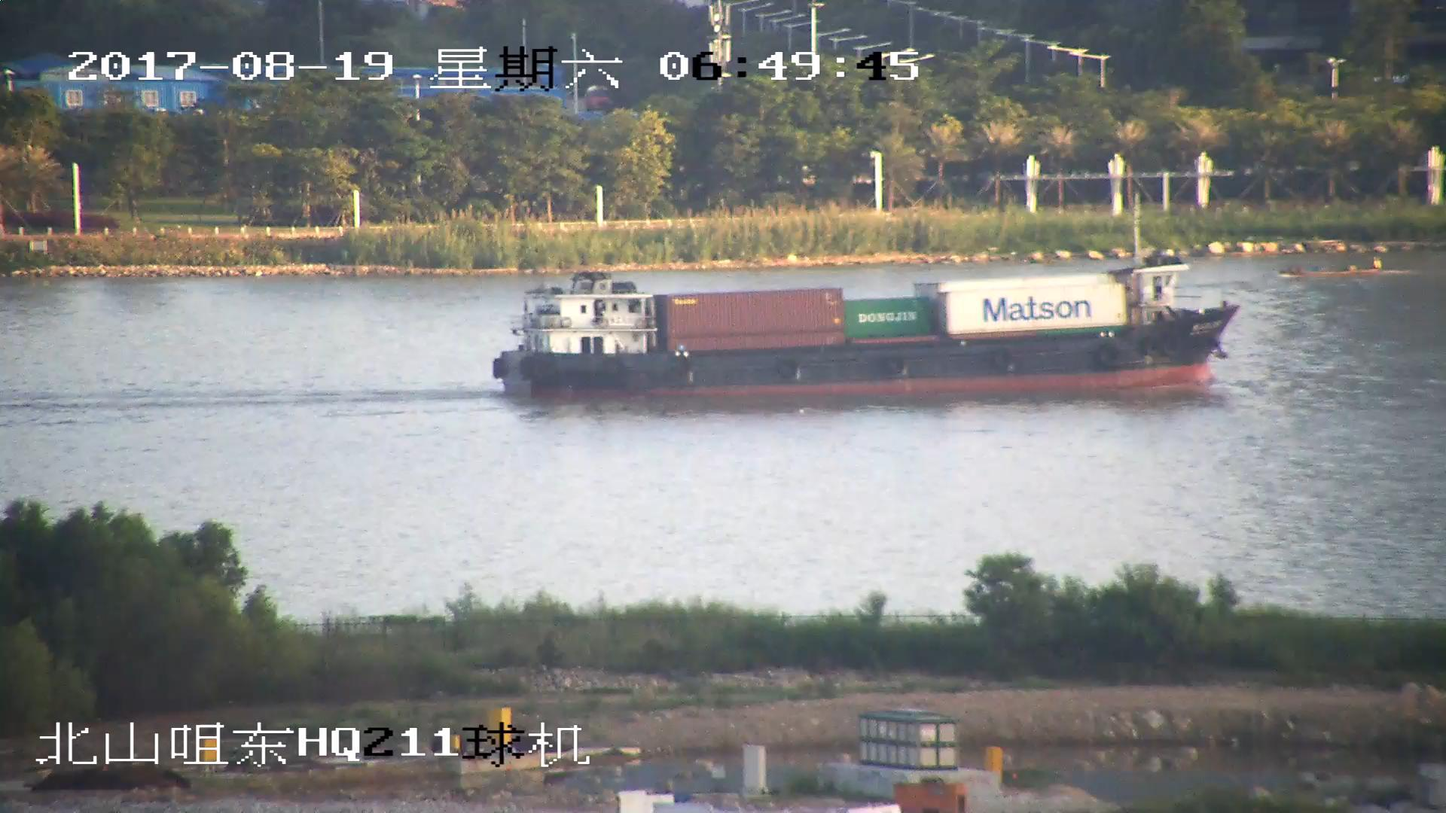container ship: (486, 227, 1240, 405)
fishing boat: (1277, 253, 1387, 280)
